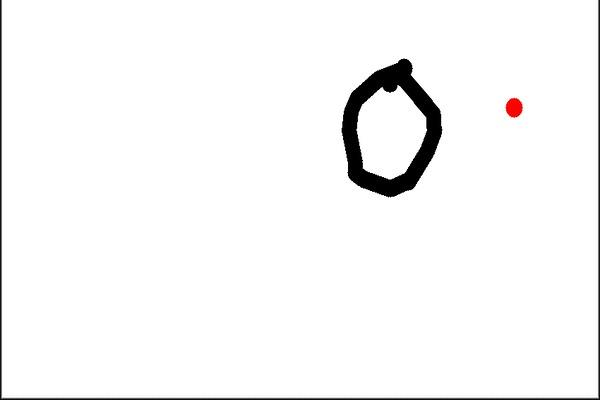O: (323, 46, 448, 197)
